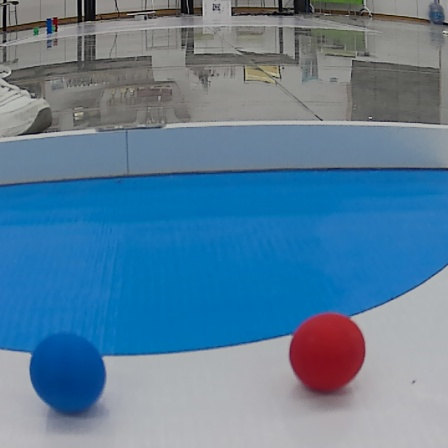blue: (23, 331, 112, 418)
blue_base: (0, 160, 448, 363)
red: (287, 309, 368, 398)
